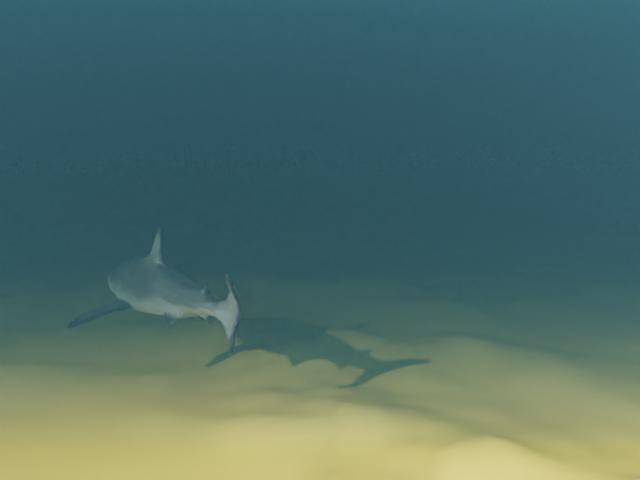Carribean Shark.001: (66, 226, 242, 355)
